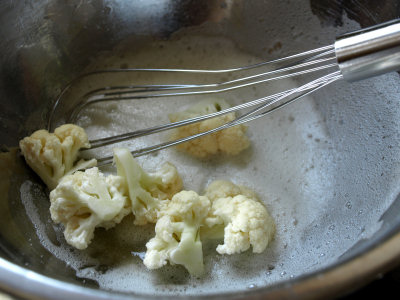cauliflower: (48, 166, 126, 251), (141, 189, 211, 280), (112, 147, 180, 226), (172, 100, 252, 158), (203, 194, 277, 256), (20, 122, 88, 183)
